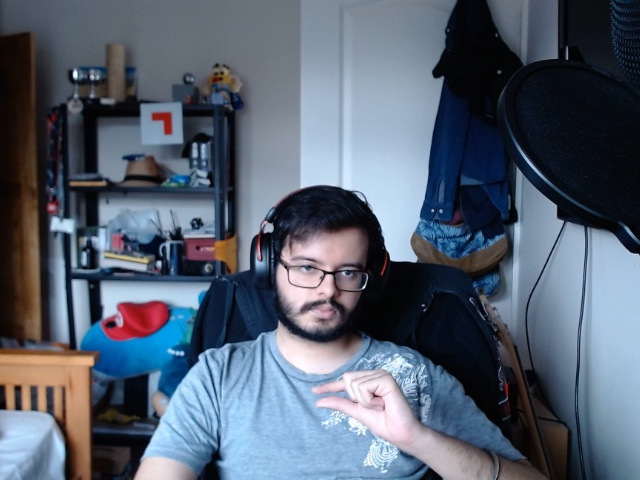Small: (304, 366, 430, 449)
